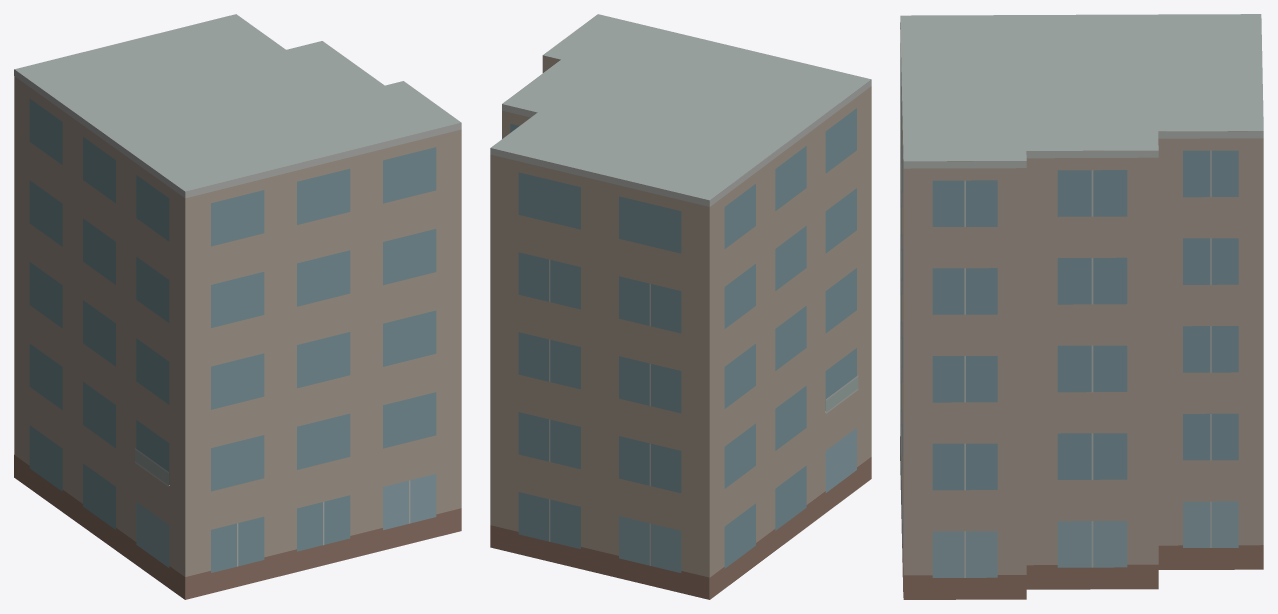
Rendered from survey-upis-32576086.glb.
3 views of the same model, side by side, from view 1: azimuth 30°, elevation 25°; view 2: azimuth 150°, elevation 25°; view 3: azimuth 270°, elevation 25° (orthographic). The views are drawn at different scales.
Visible parts, largest first — view 1: survey-upis-32576086.tmp; view 2: survey-upis-32576086.tmp; view 3: survey-upis-32576086.tmp.
Part boxes in pixels (x1=…): survey-upis-32576086.tmp: x1=14, y1=14, x2=461, y2=599; survey-upis-32576086.tmp: x1=490, y1=14, x2=871, y2=599; survey-upis-32576086.tmp: x1=900, y1=14, x2=1263, y2=599.
Size of the model in its own units: 10.63 by 14.75 by 11.09.
